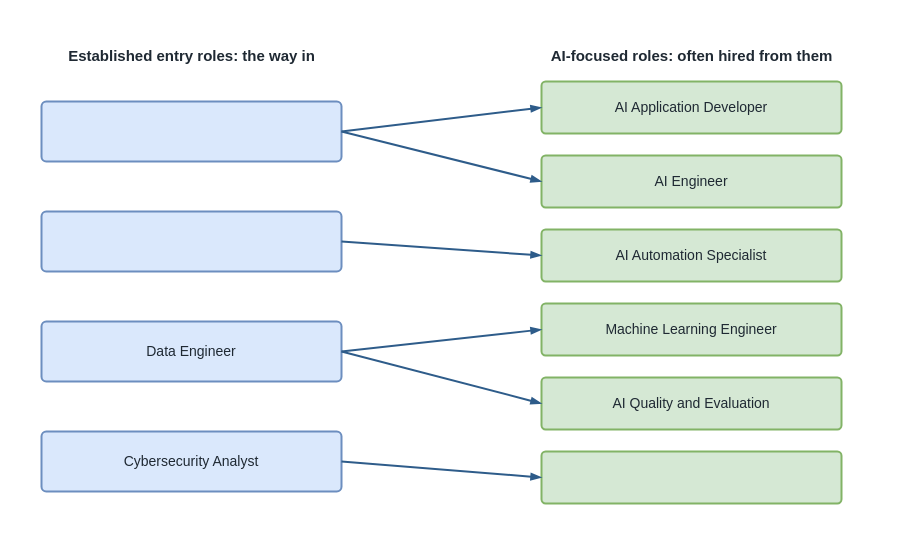
The diagram is 902 pixels wide and 544 high, and some of its shapes have lost their labels. Each missing label, with the centre of its shape:
AI Security: (691,477)
Cloud Engineer: (191,241)
Software Engineer: (191,131)
